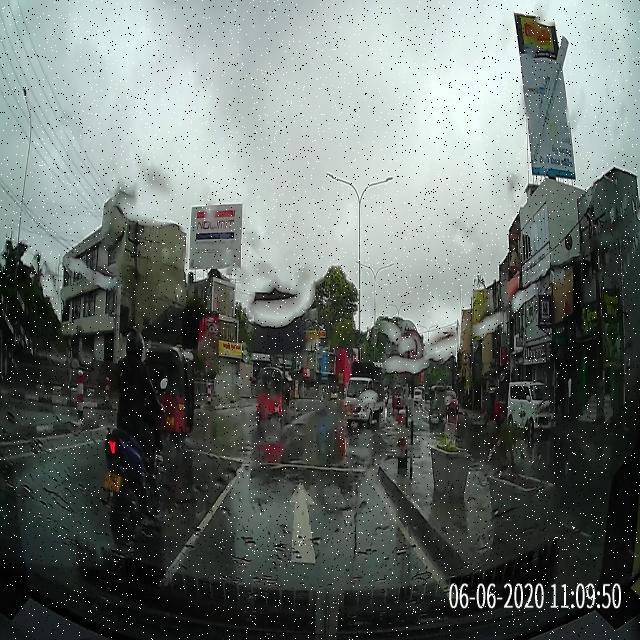forward: (178, 485, 435, 568)
